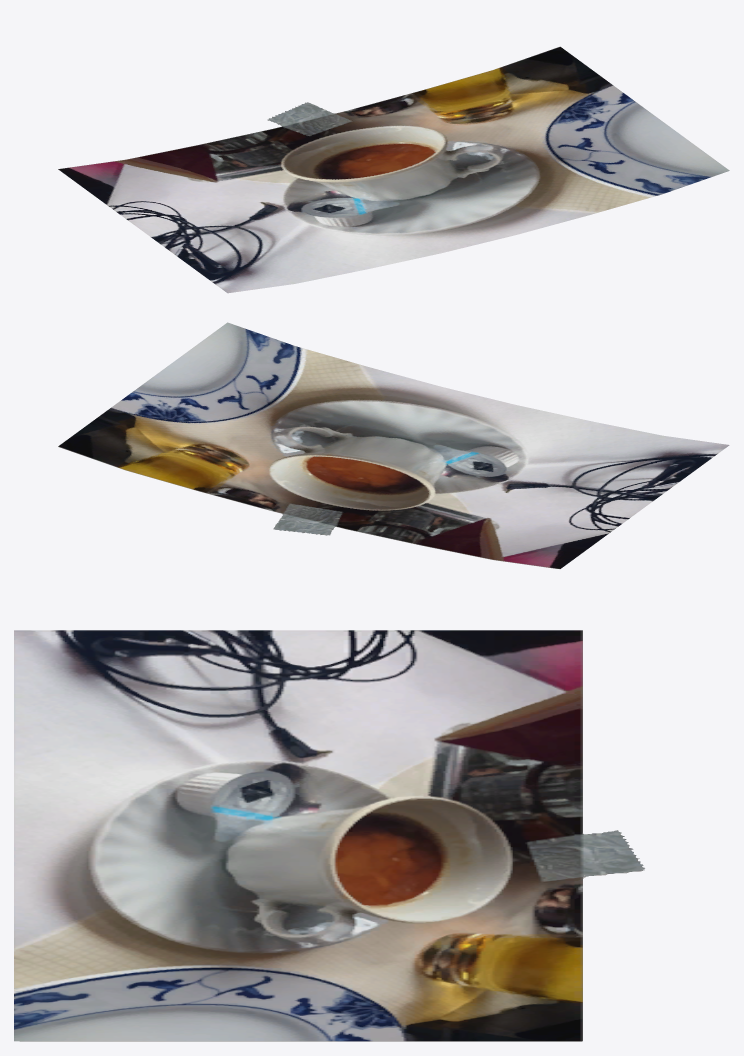
Rendered from 00_01_photos_holiday1.dae.
3 views of the same model, one above another, from view 1: azimuth 30°, elevation 25°; view 2: azimuth 150°, elevation 25°; view 3: azimuth 270°, elevation 25° (orthographic). The views are drawn at different scales.
Visible parts, largest first — view 1: Plane; view 2: Plane; view 3: Plane.
Part boxes in pixels (left/top/right/bottom): Plane: left=58, top=46, right=729, bottom=293; Plane: left=58, top=322, right=729, bottom=568; Plane: left=14, top=630, right=644, bottom=1041.
Size of the model in its own units: 0.2511 by 0.1848 by 0.00589.
Materials: 1 (1 with a texture image).
